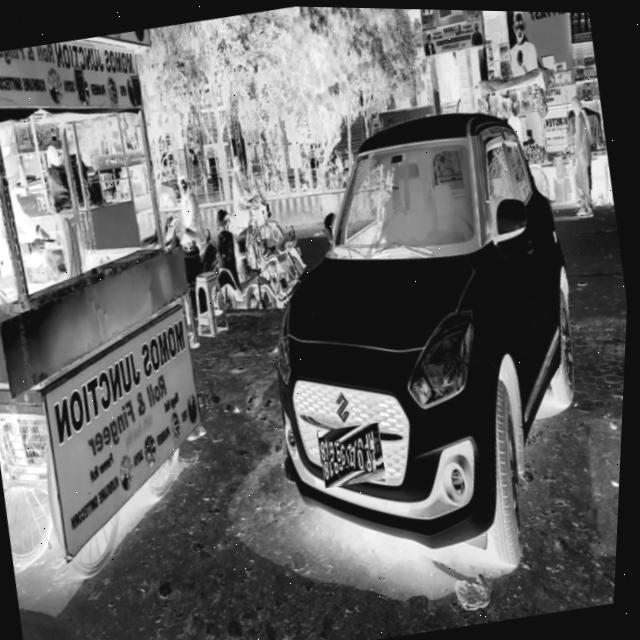0: (359, 446, 370, 469)
1: (326, 437, 336, 460)
7: (353, 444, 364, 470)
8: (322, 435, 332, 461)
9: (338, 440, 347, 462), (332, 440, 341, 461)
G: (343, 442, 353, 465)
IND: (377, 448, 387, 467)
Indian_registered: (325, 422, 385, 485)
M: (372, 448, 382, 472)
P: (366, 447, 378, 471)
Z: (347, 442, 359, 469)
